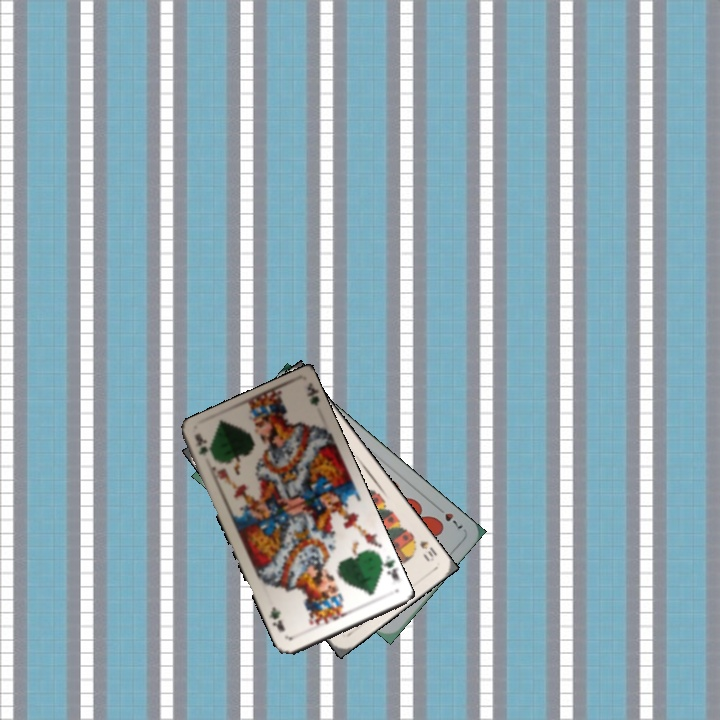GK: (376, 551, 402, 583), (191, 430, 211, 459)
H7: (432, 502, 466, 532)
S10: (415, 536, 440, 564)
